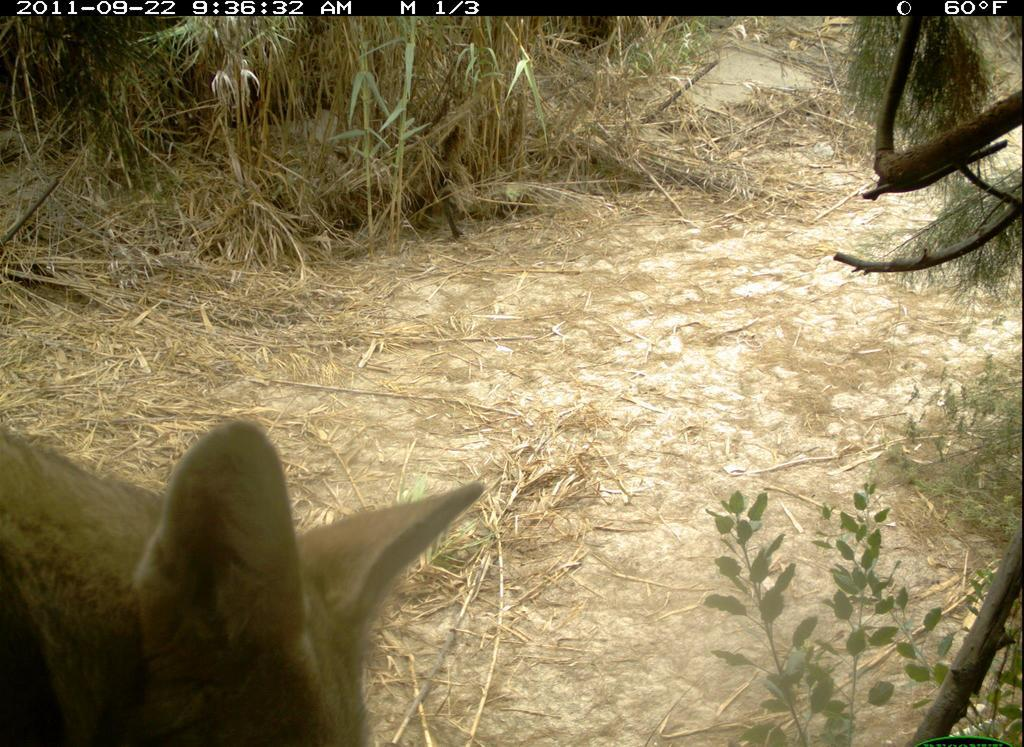coyote: (4, 406, 493, 745)
